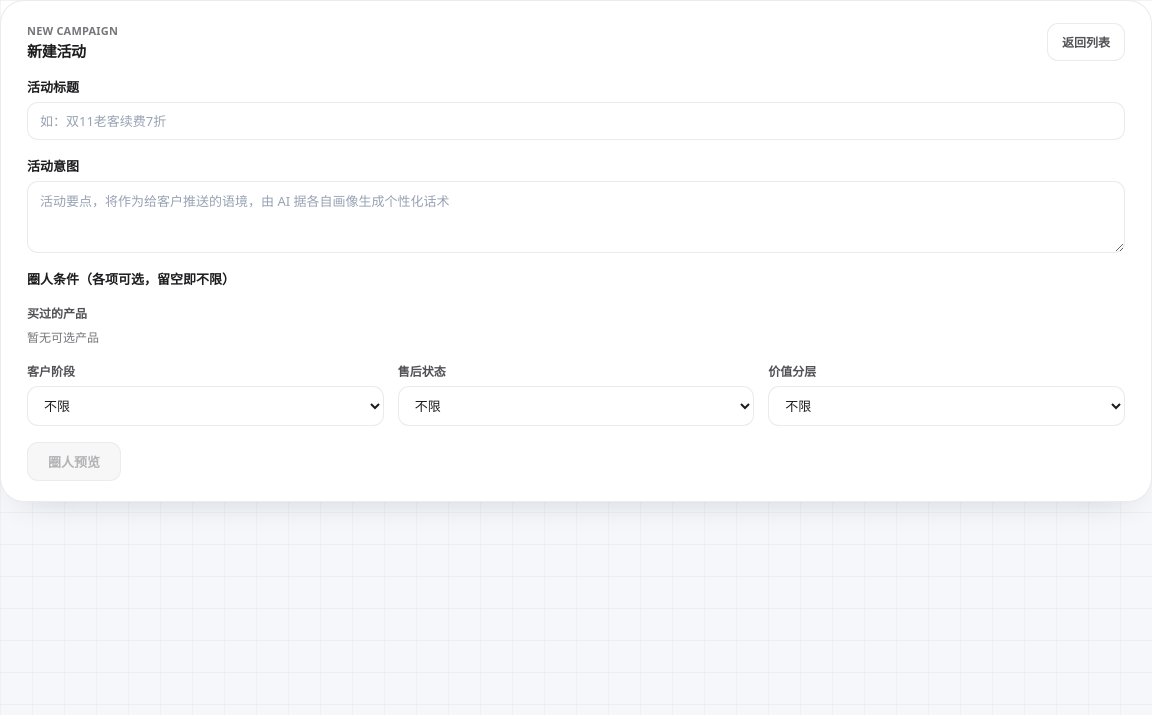
Test: CampaignCreate 建活动表单 › 填表点预览 → 调 create + preview，显示命中数
Type "活动A" into the field with placeholder "如：双11老客续费7折" at (576, 121), box 27,102 -> 1125,140
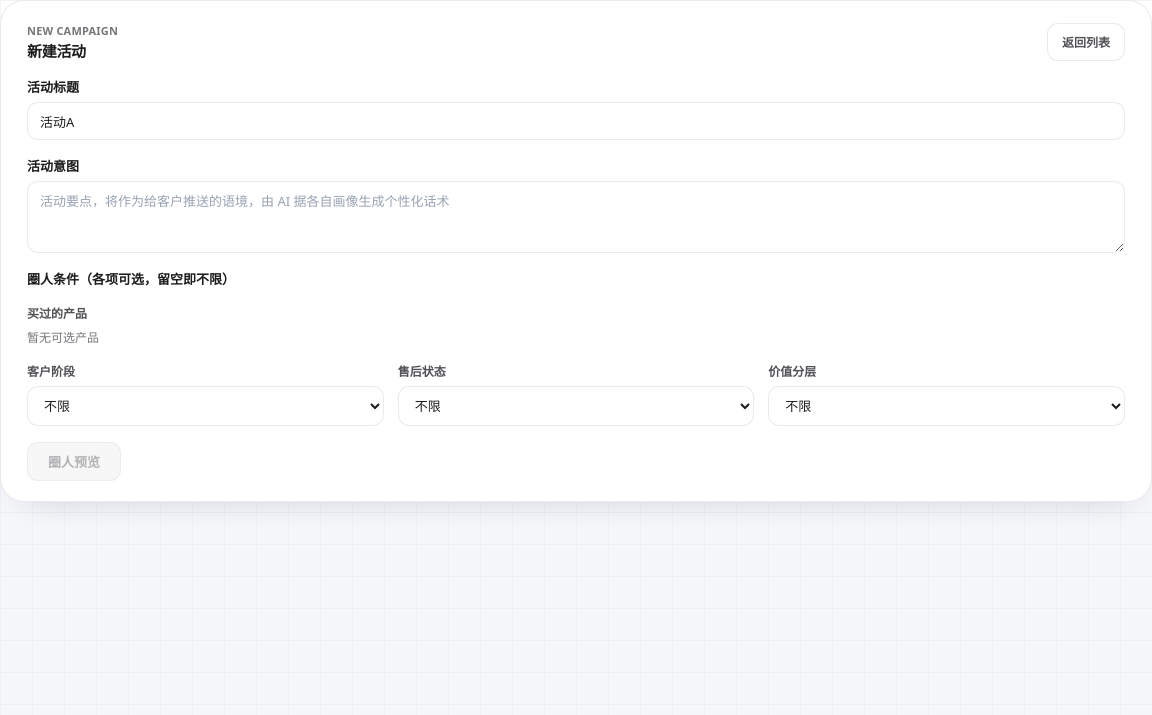
Type "7折" into the text box with placeholder "活动要点，将作为给客户推送的语境，由 AI 据各自画像生成个性化话术" at (576, 217), box 27,181 -> 1125,253
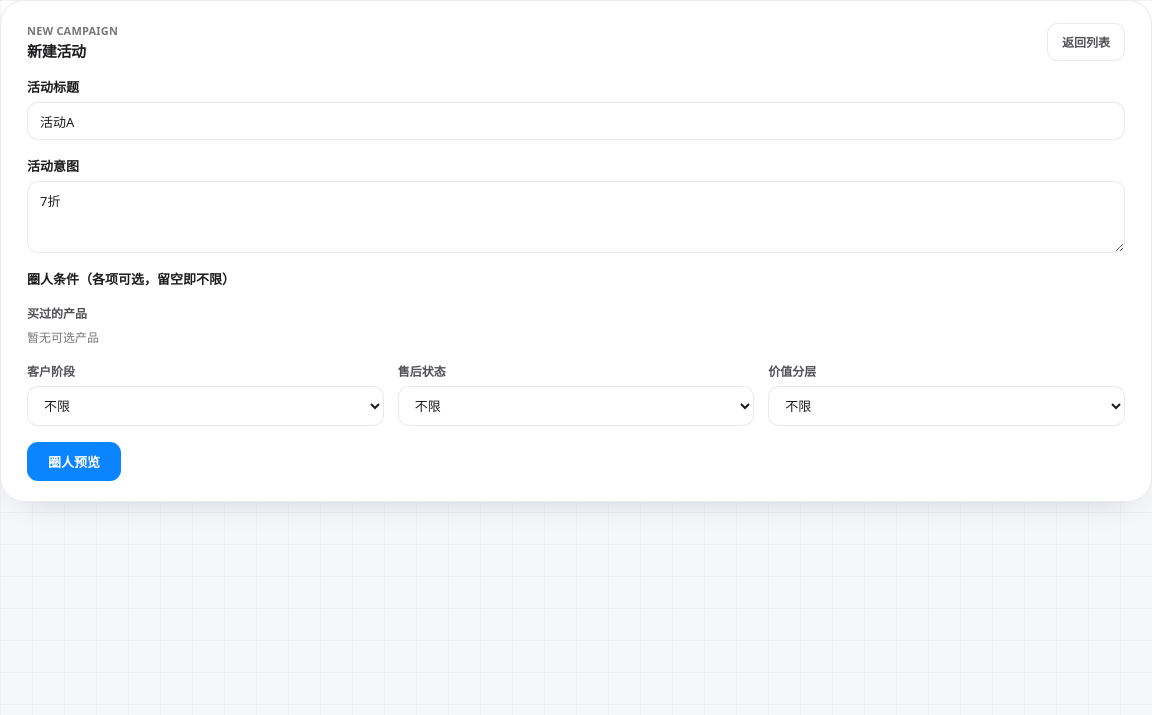
Click the button "圈人预览" at (74, 462), box 27,442 -> 121,481
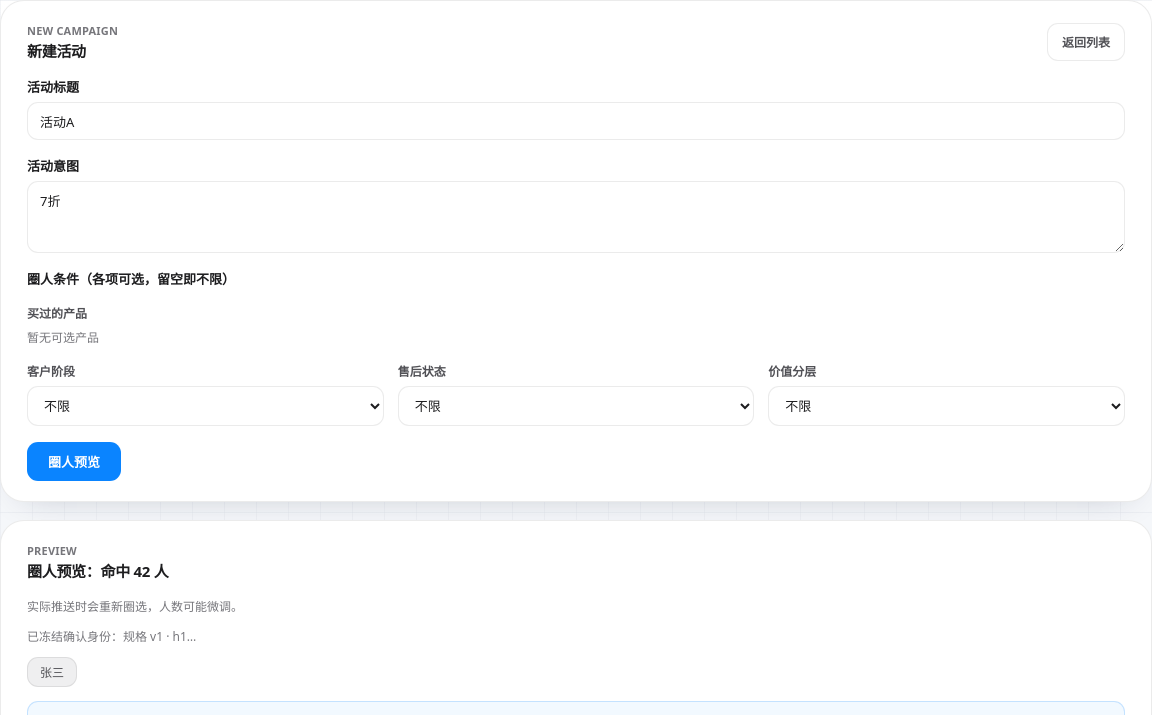
expect the text "圈人预览：命中 42 人" is shown: met, box 27,560 -> 168,581
